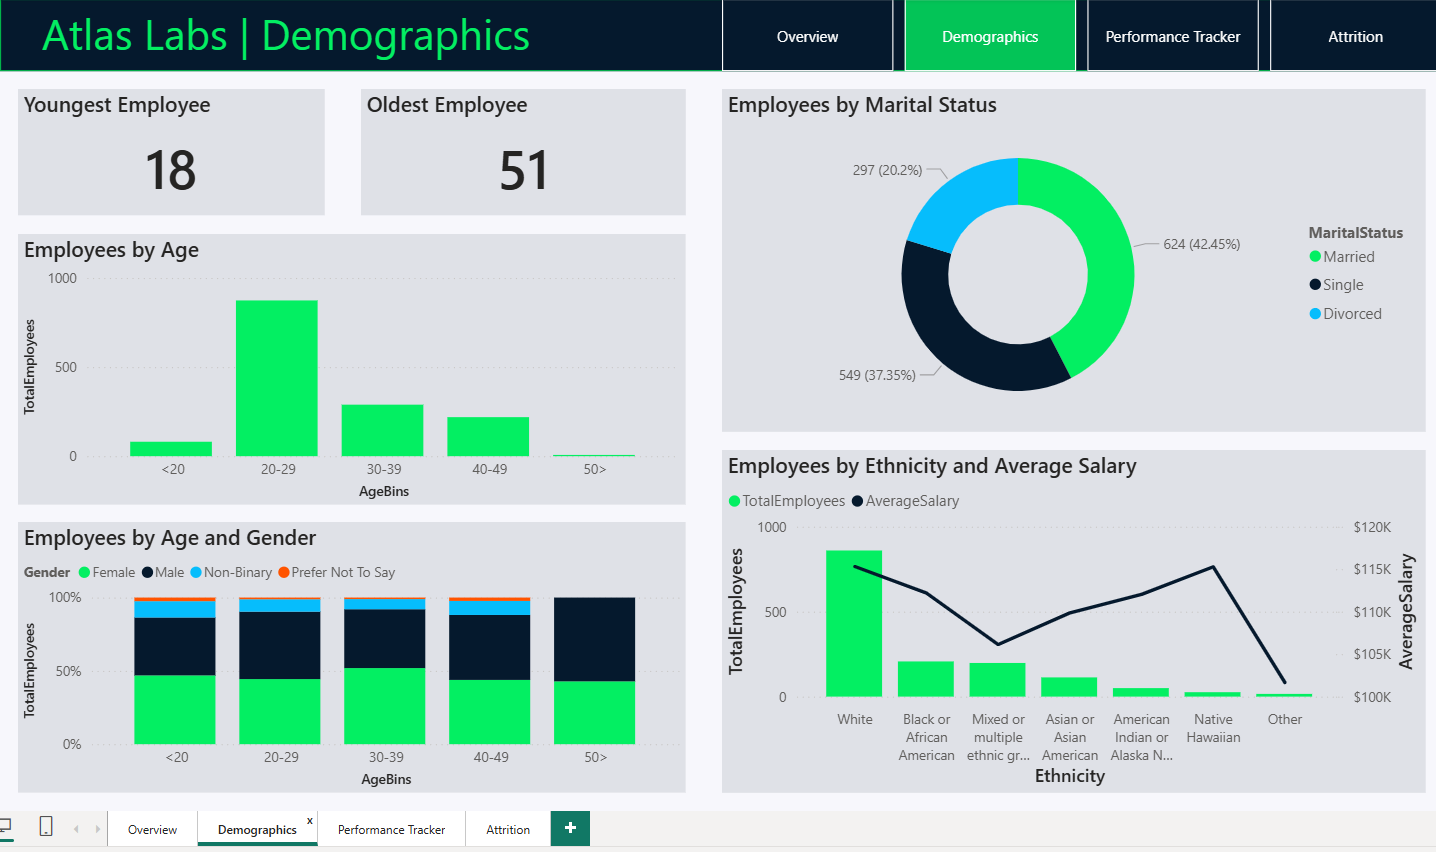

What the dashboard file says about the page in this screenshot:
{"tool":"powerbi","page":{"name":"Demographics","canvas":[1280,720],"ordinal":1},"visuals":[{"type":"card","title":"Youngest Employee","fields":{"Values":["Min(DimEmployee.Age)"]},"box":[16,80,272,112],"z":0},{"type":"card","title":"Oldest Employee","fields":{"Values":["Max(DimEmployee.Age)"]},"box":[320,80,288,112],"z":1000},{"type":"columnChart","title":"Employees by Age","fields":{"Category":["DimEmployee.AgeBins"],"Y":["_Measures.TotalEmployees"]},"box":[16,208,592,240],"z":2000},{"type":"hundredPercentStackedColumnChart","title":"Employees by Age and Gender","fields":{"Category":["DimEmployee.AgeBins"],"Series":["DimEmployee.Gender"],"Y":["_Measures.TotalEmployees"]},"box":[16,464,592,240],"z":3000},{"type":"donutChart","title":"Employees by Marital Status","fields":{"Category":["DimEmployee.MaritalStatus"],"Y":["_Measures.TotalEmployees"]},"box":[640,80,624,304],"z":4000},{"type":"lineStackedColumnComboChart","title":"Employees by Ethnicity and Average Salary","fields":{"Category":["DimEmployee.Ethnicity"],"Y":["_Measures.TotalEmployees"],"Y2":["_Measures.AverageSalary"]},"box":[640,400,624,304],"z":5000},{"type":"shape","box":[0,0,1280,64],"z":6000},{"type":"textbox","box":[32,0,624,64],"z":7000},{"type":"pageNavigator","box":[640,0,640,64],"z":8000}]}

Visuals, with their boxes on the page's 1280x720 design canvas (x1, y1, x2, y2). These are canvas units, not pixel positions in the 1436x852 screenshot, which may show the page scaled, cropped or inside an application window:
"Youngest Employee" card: crop(16, 80, 288, 192)
"Oldest Employee" card: crop(320, 80, 608, 192)
"Employees by Age" columnChart: crop(16, 208, 608, 448)
"Employees by Age and Gender" hundredPercentStackedColumnChart: crop(16, 464, 608, 704)
"Employees by Marital Status" donutChart: crop(640, 80, 1264, 384)
"Employees by Ethnicity and Average Salary" lineStackedColumnComboChart: crop(640, 400, 1264, 704)
shape: crop(0, 0, 1280, 64)
textbox: crop(32, 0, 656, 64)
pageNavigator: crop(640, 0, 1280, 64)
